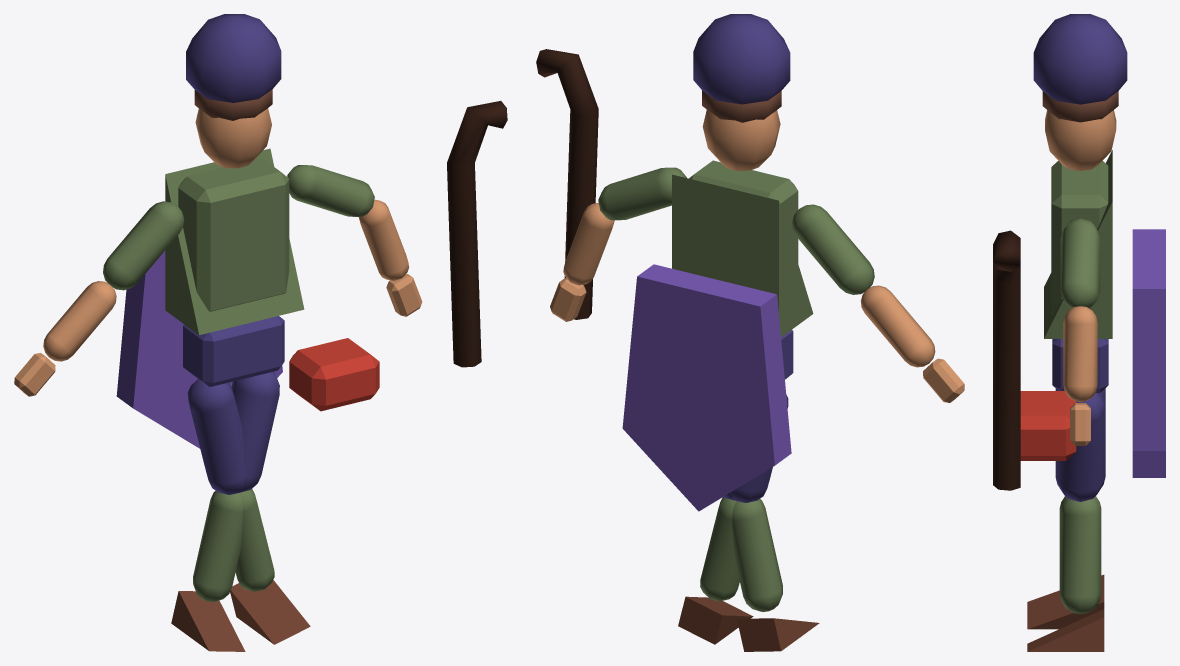
File: adventurer.rustic.glb
3 renders of one model, left to right at view 1: azimuth 30°, elevation 25°; view 2: azimuth 150°, elevation 25°; view 3: azimuth 270°, elevation 25°, orthographic.
Visible parts, largest first — view 1: torso, accessory.back, accessory.main-hand, accessory.head, tunic, pelvis, accessory.waist, thigh.left, shin.right, upper-arm.left, thigh.right, head (+9 smaller); view 2: accessory.back, tunic, accessory.head, accessory.main-hand, shin.right, upper-arm.left, head, forearm.left, upper-arm.right, torso, shin.left, forearm.right (+6 smaller); view 3: accessory.back, accessory.main-hand, accessory.head, shin.left, torso, accessory.waist, upper-arm.right, head, tunic, forearm.right, thigh.right, foot.left (+4 smaller).
Part boxes in pixels (box(x1,y1,x2,y2)): torso: box(178, 158, 289, 311); accessory.back: box(116, 250, 282, 448); accessory.main-hand: box(447, 101, 507, 367); accessory.head: box(186, 14, 281, 102); tunic: box(165, 148, 304, 335); pelvis: box(183, 316, 284, 386); accessory.waist: box(289, 338, 379, 411); thigh.left: box(187, 379, 244, 494); shin.right: box(193, 491, 242, 602); upper-arm.left: box(103, 201, 184, 290); thigh.right: box(231, 371, 279, 492); head: box(195, 108, 271, 168); accessory.back: box(622, 264, 791, 511); tunic: box(672, 174, 813, 337); accessory.head: box(693, 14, 790, 104); accessory.main-hand: box(536, 49, 598, 319); shin.right: box(732, 499, 782, 611); upper-arm.left: box(792, 204, 874, 294); head: box(702, 110, 780, 170); forearm.left: box(860, 285, 935, 367); upper-arm.right: box(598, 167, 686, 220); torso: box(689, 160, 798, 263); shin.left: box(700, 497, 739, 601); forearm.right: box(563, 202, 614, 285); accessory.back: box(1132, 229, 1165, 477); accessory.main-hand: box(993, 230, 1020, 490); accessory.head: box(1033, 14, 1127, 104); shin.left: box(1059, 497, 1101, 613); torso: box(1051, 161, 1108, 314); accessory.waist: box(1020, 391, 1076, 460); upper-arm.right: box(1060, 218, 1100, 308); head: box(1045, 110, 1116, 170); tunic: box(1044, 150, 1112, 338); forearm.right: box(1063, 306, 1097, 401); thigh.right: box(1055, 393, 1105, 501); foot.left: box(1027, 609, 1104, 651).
Size of the model in its own units: 2.52 by 3.28 by 0.83.
